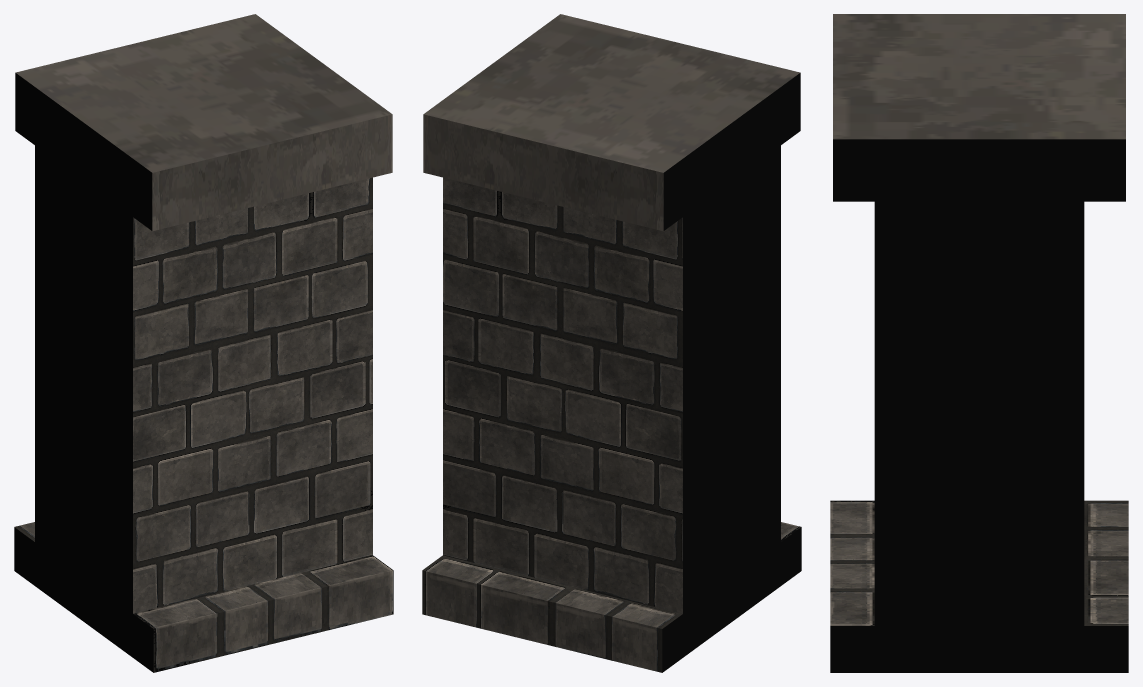
Rendered from DoubleSidedWall02.fbx.
The picture shows the model from 3 angles, left to right: view 1: azimuth 30°, elevation 25°; view 2: azimuth 150°, elevation 25°; view 3: azimuth 270°, elevation 25°; orthographic projection. The views are drawn at different scales.
Visible parts, largest first — view 1: Plane; view 2: Plane; view 3: Plane.
Boxes of the visible parts, box(x1,y1,x2,y2) form: Plane: box(14, 14, 393, 672); Plane: box(422, 14, 801, 672); Plane: box(830, 14, 1128, 672).
Bounding box in the file's own units: 1.01 × 2 × 1.01.
Materials: 1 (1 with a texture image).
